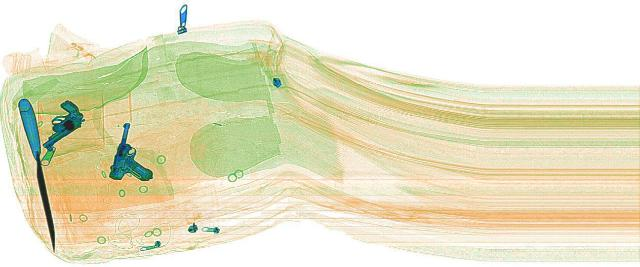Gun: (5, 98, 109, 147), (104, 121, 166, 180)
Knife: (13, 98, 65, 251)
